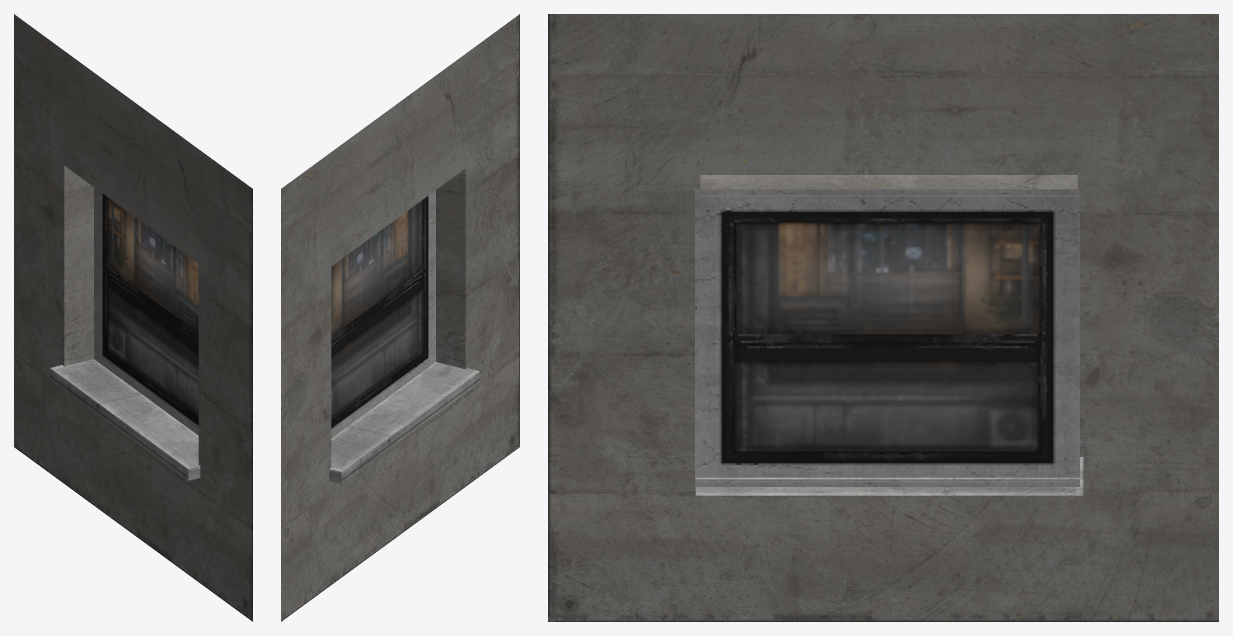
The model's file is CP_Windows_B_2x2m_01.fbx.
3 renders of one model, left to right at view 1: azimuth 30°, elevation 25°; view 2: azimuth 150°, elevation 25°; view 3: azimuth 270°, elevation 25°, orthographic. The views are drawn at different scales.
Visible parts, largest first — view 1: CP_Windows_B_2x2m_01; view 2: CP_Windows_B_2x2m_01; view 3: CP_Windows_B_2x2m_01.
Boxes of the visible parts, x1,y1,x2,y2 form: CP_Windows_B_2x2m_01: (14,14,252,621); CP_Windows_B_2x2m_01: (281,14,519,621); CP_Windows_B_2x2m_01: (548,14,1218,621).
Size of the model in its own units: 21.47 by 200 by 200.
